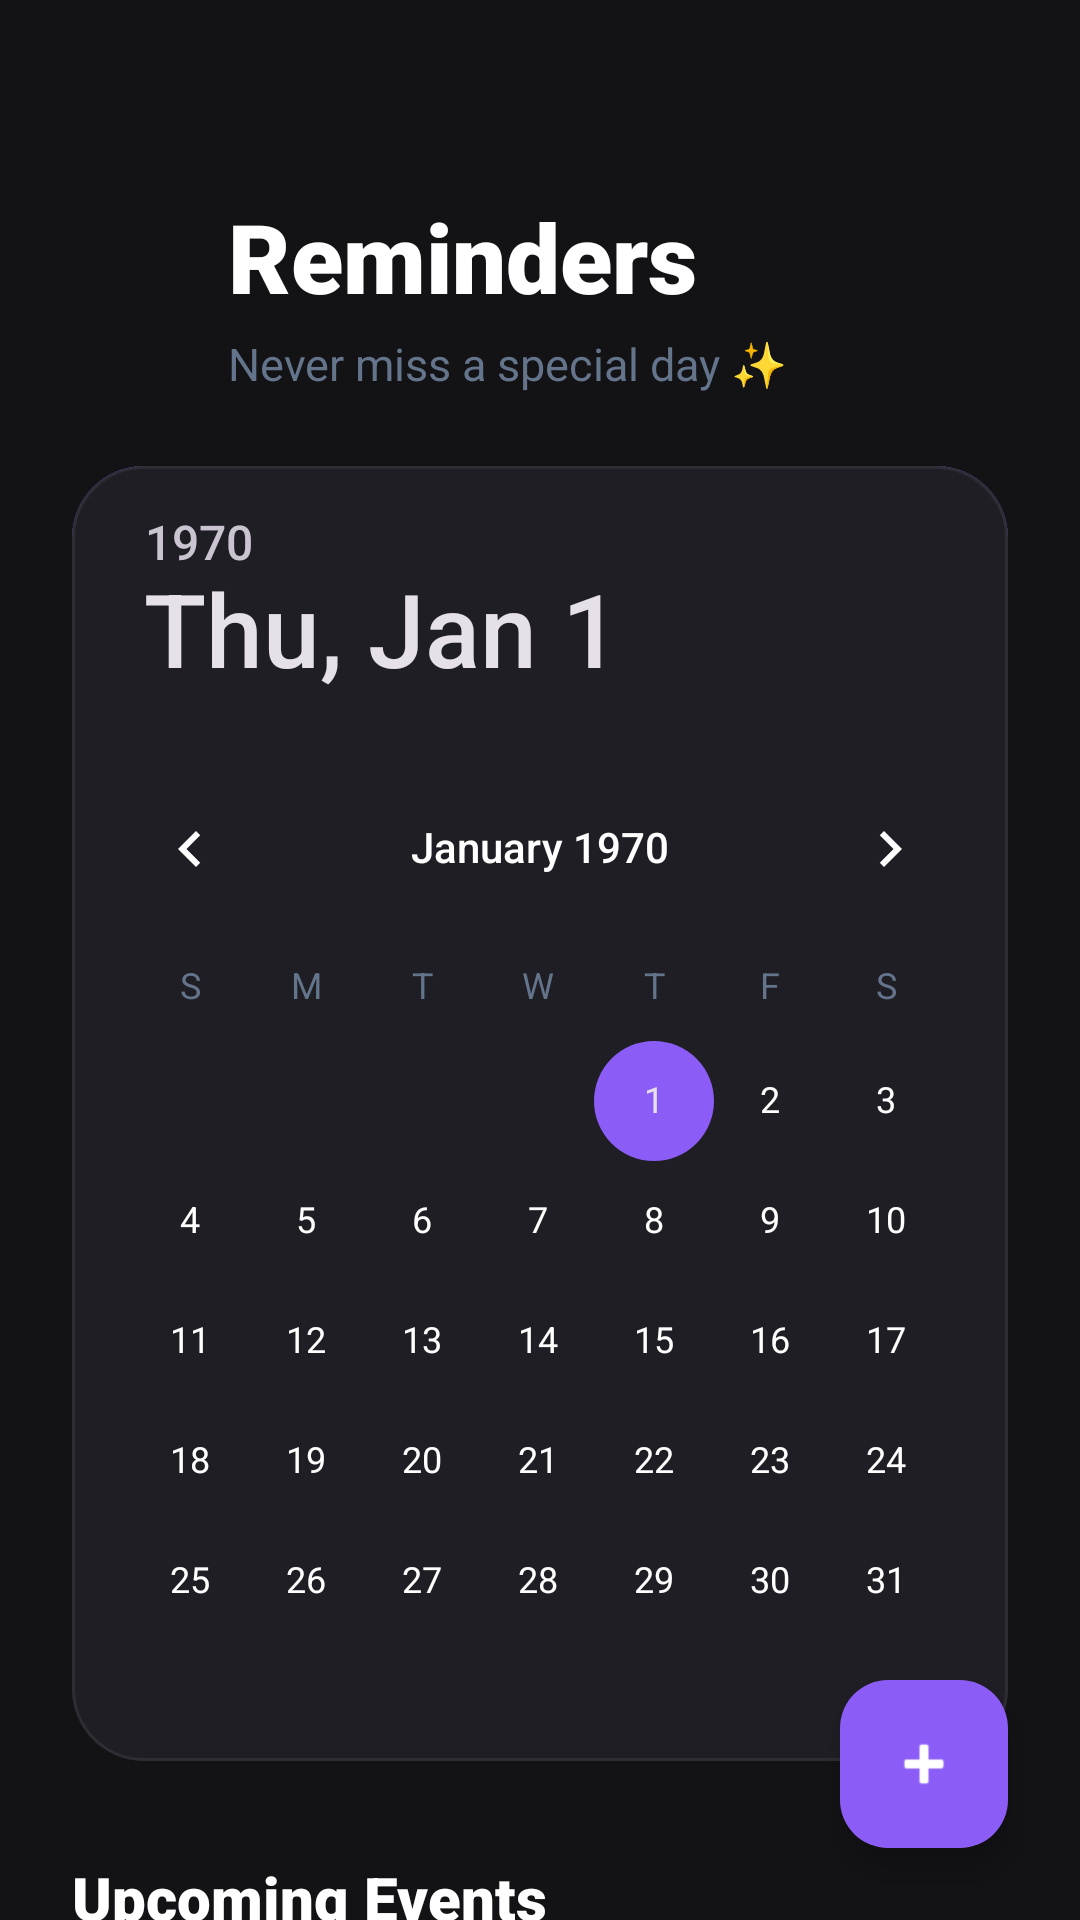

Named icons in this screenshot (1080*1920) and their bounding boxes, (x1, y1, x2, y2):
Add Reminder: (840, 1680, 1008, 1848)
